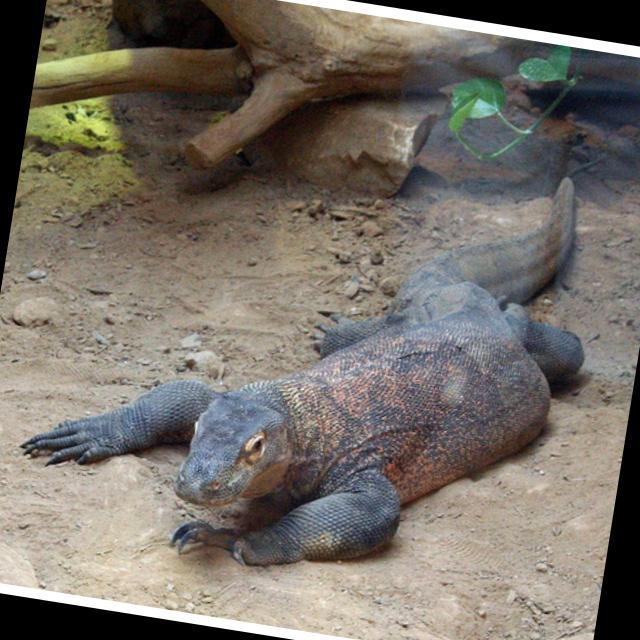KomodoDragon: (3, 93, 615, 613)
